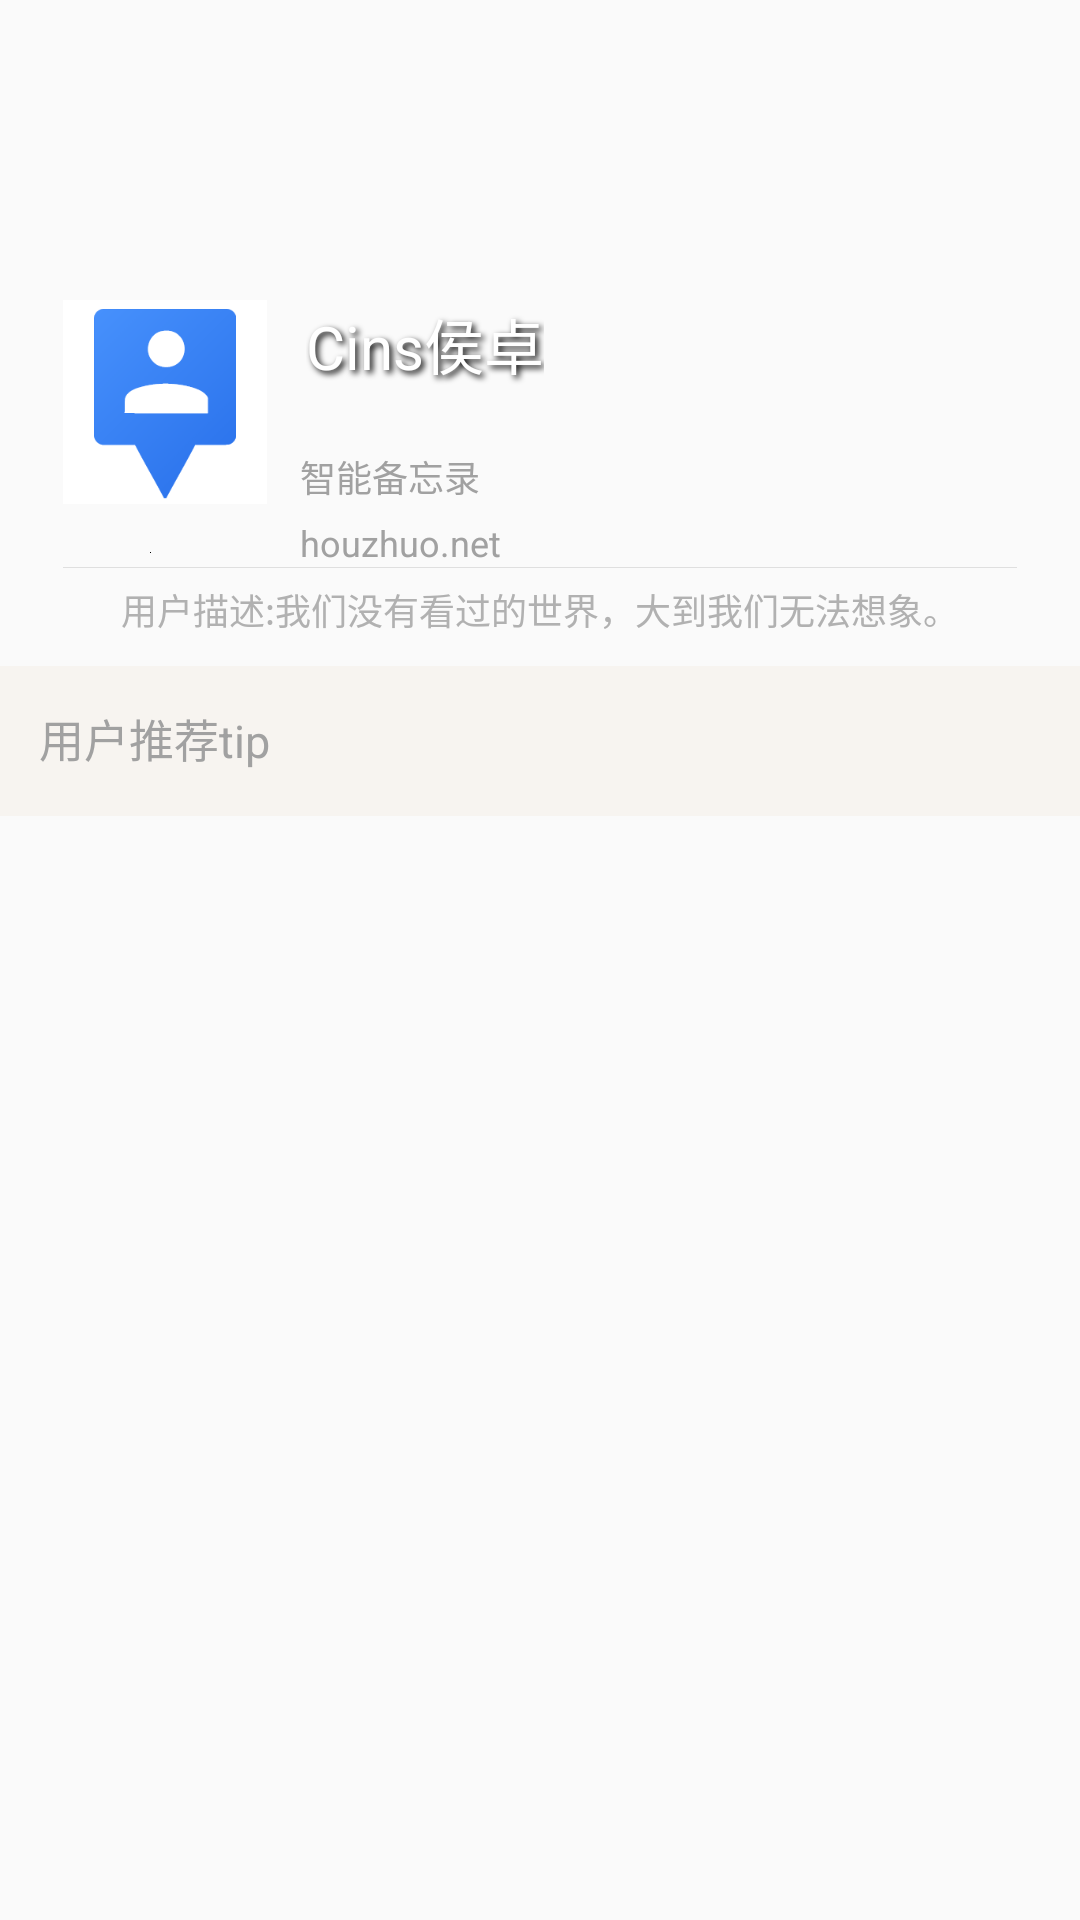

Screen size 1080*1920. Icon name, then its center in pixels as [x,y]:
usr: [165,404]
